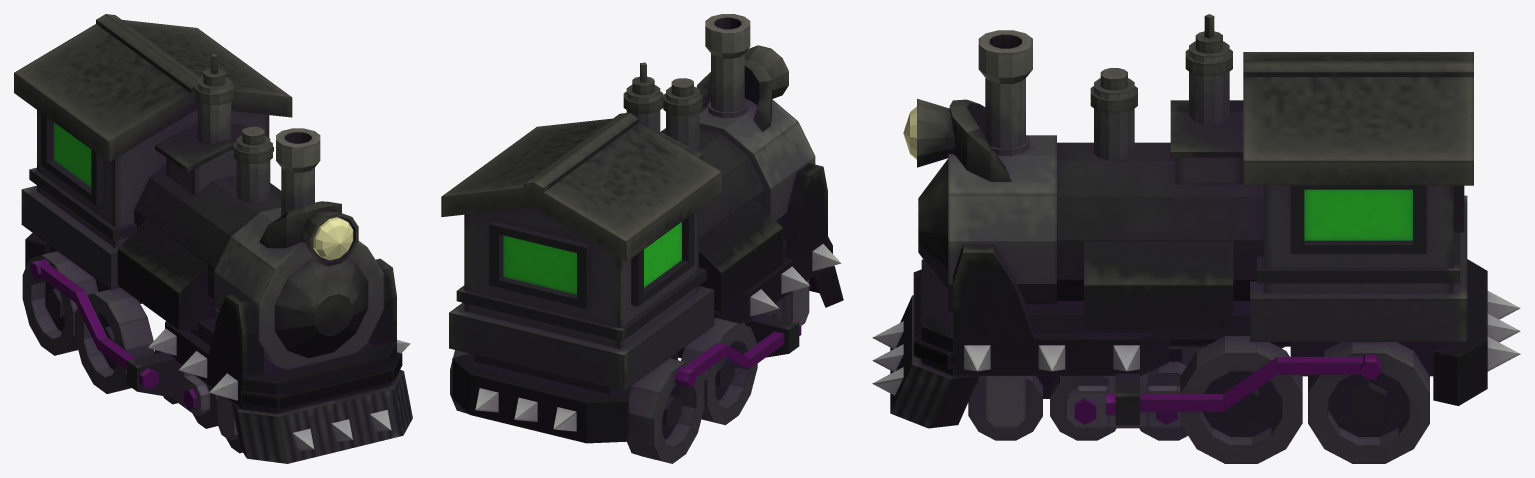
File: GhostTrainModel.fbx
3 renders of one model, left to right at view 1: azimuth 30°, elevation 25°; view 2: azimuth 150°, elevation 25°; view 3: azimuth 270°, elevation 25°, orthographic. The views are drawn at different scales.
Parts seen in each view (by area): view 1: MDL_GhostTrain; view 2: MDL_GhostTrain; view 3: MDL_GhostTrain.
Part boxes in pixels (left/top/right/bottom): MDL_GhostTrain: left=14, top=14, right=412, bottom=463; MDL_GhostTrain: left=441, top=14, right=843, bottom=463; MDL_GhostTrain: left=872, top=14, right=1520, bottom=463.
Size of the model in its own units: 150 by 197 by 299.
Materials: 2 (2 with a texture image).
